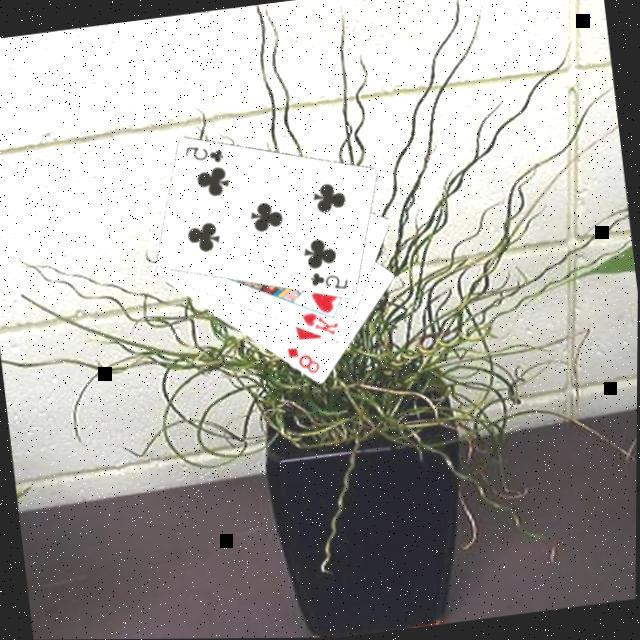5C: (181, 137, 228, 168), (307, 264, 353, 295)
8D: (284, 338, 324, 378)
KH: (298, 304, 344, 341)
